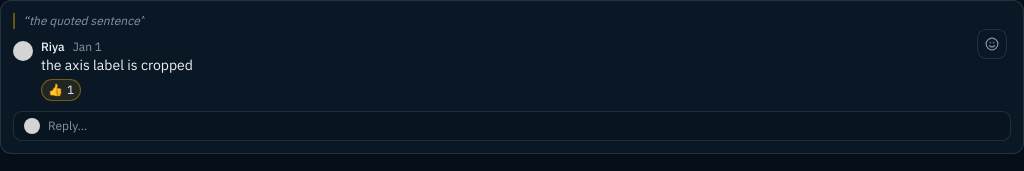
Test case: ThreadCard — reaction chips › clicking a chip the caller already holds unreacts, and the chip disappears when it hits zero
The image size is (1024, 171).
Click the button "👍 1" at (61, 90), box [41, 79, 81, 101]
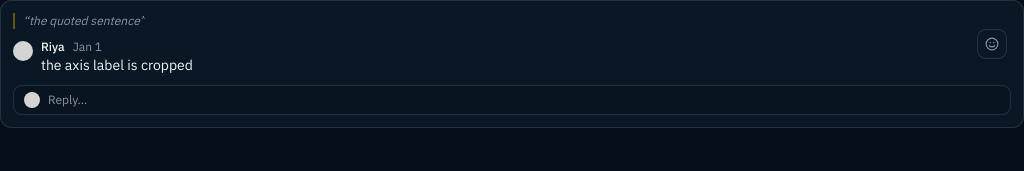
Expected: the button "👍 1" is gone
